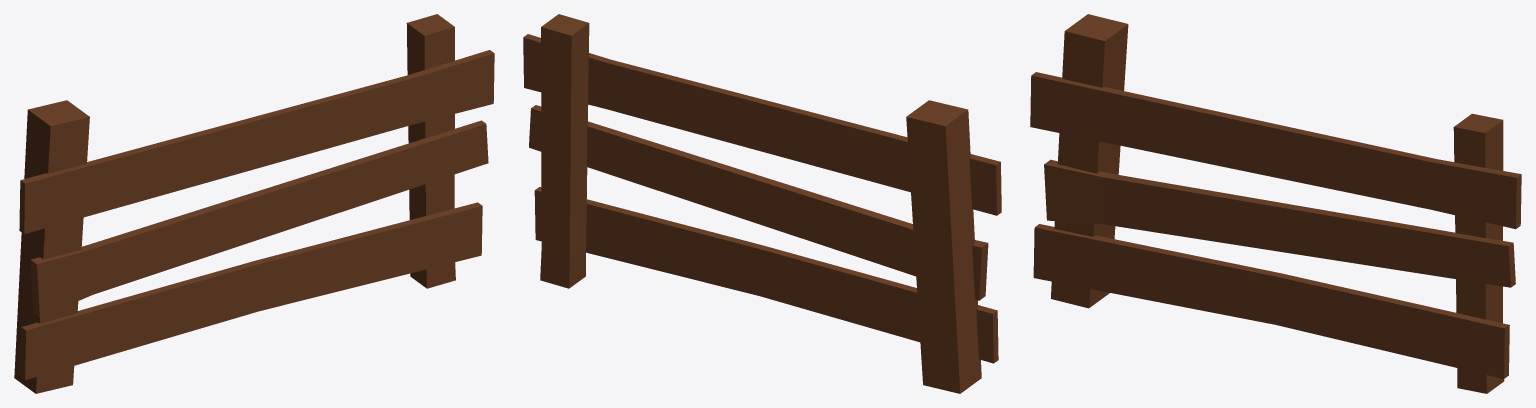
File: Fence_Tile_6.fbx
3 renders of one model, left to right at view 1: azimuth 30°, elevation 25°; view 2: azimuth 150°, elevation 25°; view 3: azimuth 330°, elevation 25°, orthographic. The views are drawn at different scales.
Visible parts, largest first — view 1: Fence_Tile_6; view 2: Fence_Tile_6; view 3: Fence_Tile_6.
Part boxes in pixels (bbox=[...]): Fence_Tile_6: bbox=[14, 14, 494, 393]; Fence_Tile_6: bbox=[523, 14, 1001, 393]; Fence_Tile_6: bbox=[1030, 14, 1521, 393].
Bounding box in the file's own units: 184 × 98.91 × 17.84.
